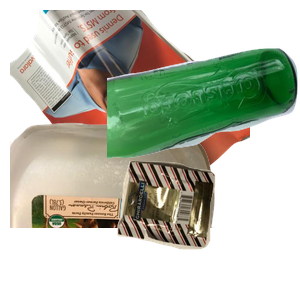glass: (107, 46, 300, 197)
paper: (10, 10, 250, 190)
plastic: (10, 120, 220, 300)
trash: (115, 158, 300, 300)
